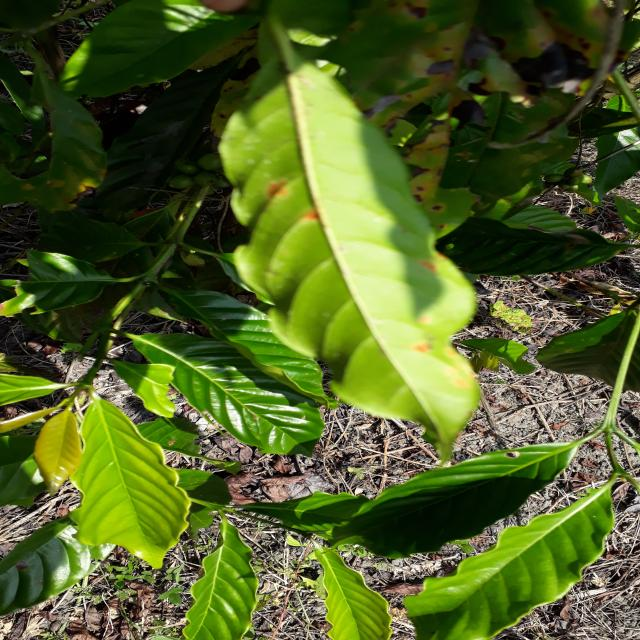Enfermedad-Roya: (219, 17, 483, 467)
